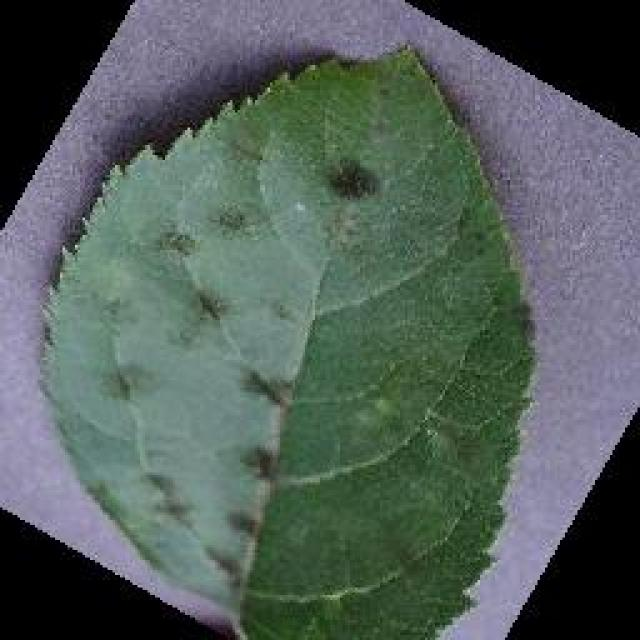apple scab disease: (35, 40, 540, 638)
